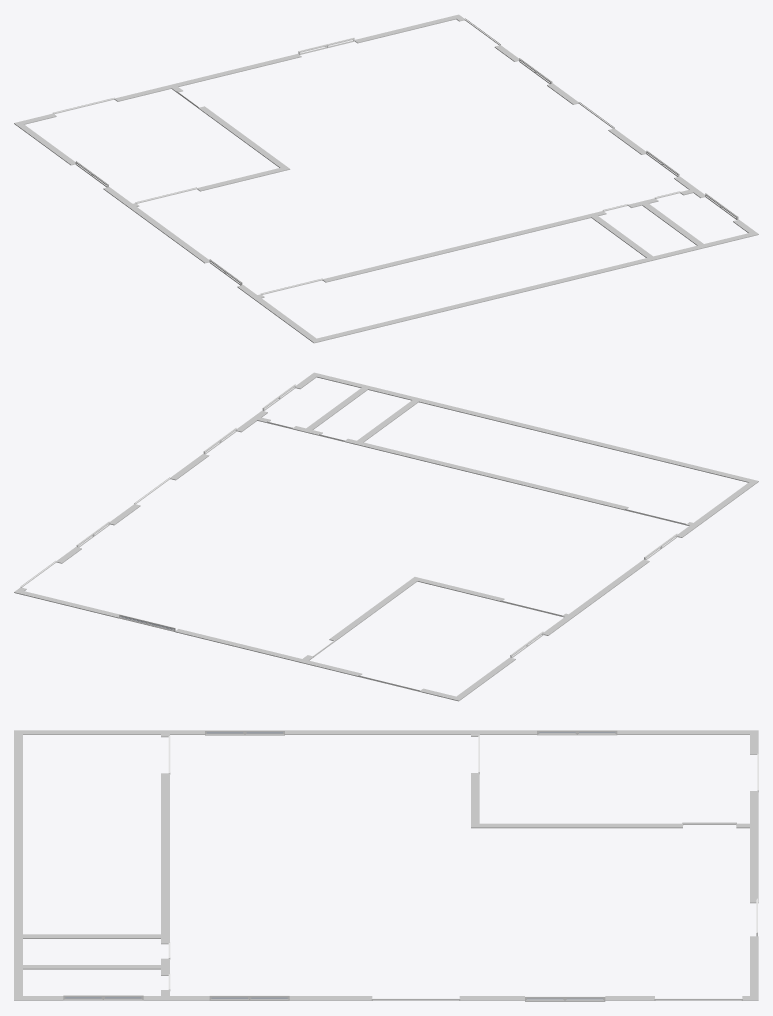
Rendered from VV_VERH_GLB.glb.
The picture shows the model from 3 angles, top to bottom: view 1: azimuth 30°, elevation 25°; view 2: azimuth 150°, elevation 25°; view 3: azimuth 270°, elevation 25°; orthographic projection. The views are drawn at different scales.
Bounding box in the file's own units: 0.0358 × 0.00038 × 0.0418.
